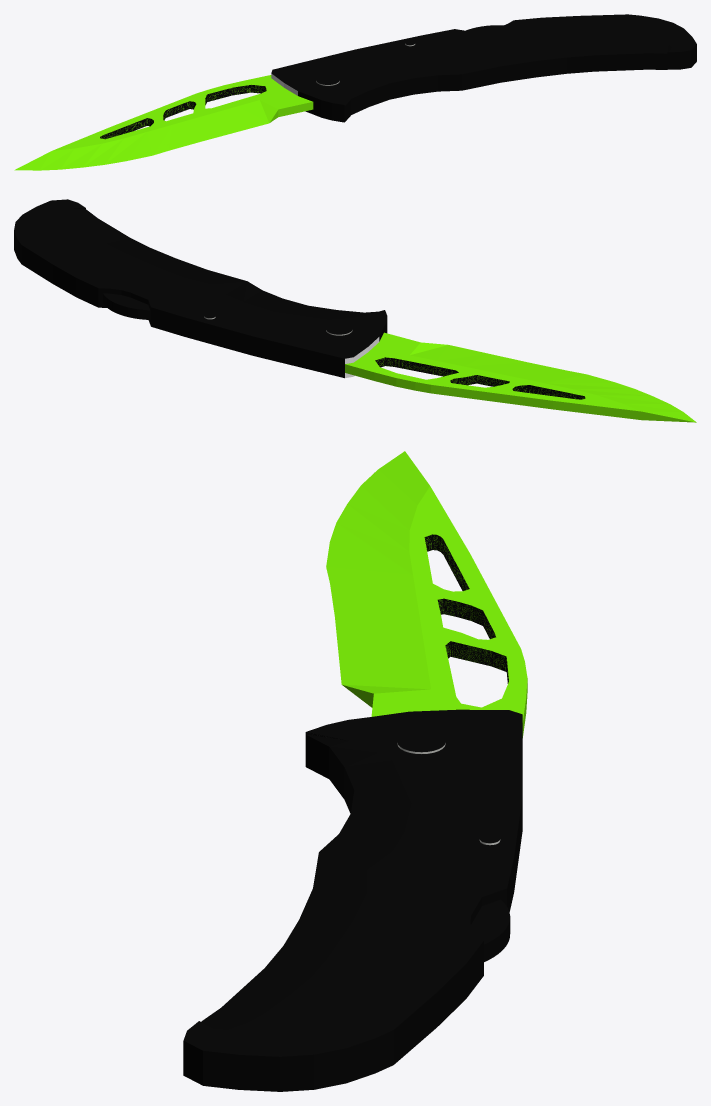
File: knife_06_origin_gt_2.dae
The picture shows the model from 3 angles, top to bottom: view 1: azimuth 30°, elevation 25°; view 2: azimuth 150°, elevation 25°; view 3: azimuth 270°, elevation 25°; orthographic projection. The views are drawn at different scales.
Parts seen in each view (by area): view 1: Pocket_Knife (×5); view 2: Pocket_Knife (×5); view 3: Pocket_Knife (×3).
Boxes of the visible parts, box(x1,y1,x2,y2) form: Pocket_Knife (×5): box(14, 14, 696, 170); Pocket_Knife (×5): box(14, 199, 696, 422); Pocket_Knife (×3): box(183, 451, 527, 1091).
Bounding box in the file's own units: 8.45 × 1.97 × 0.2463.
6 materials, 3 textured.
